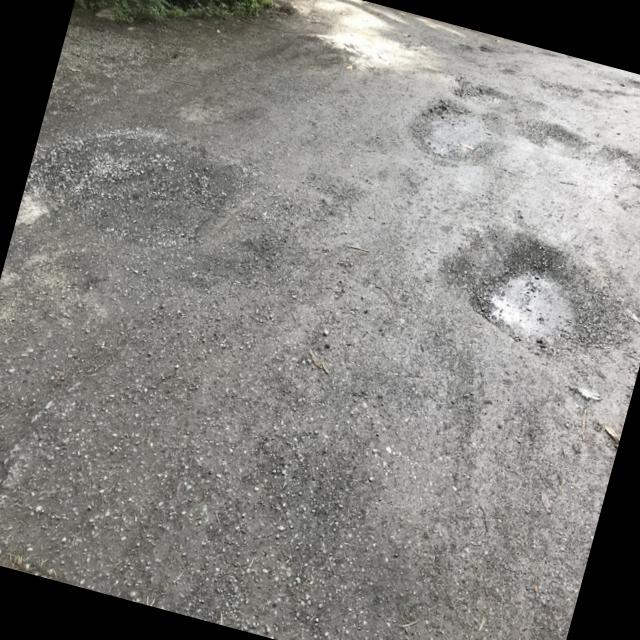Potholes: (442, 226, 637, 397), (402, 62, 530, 208)
